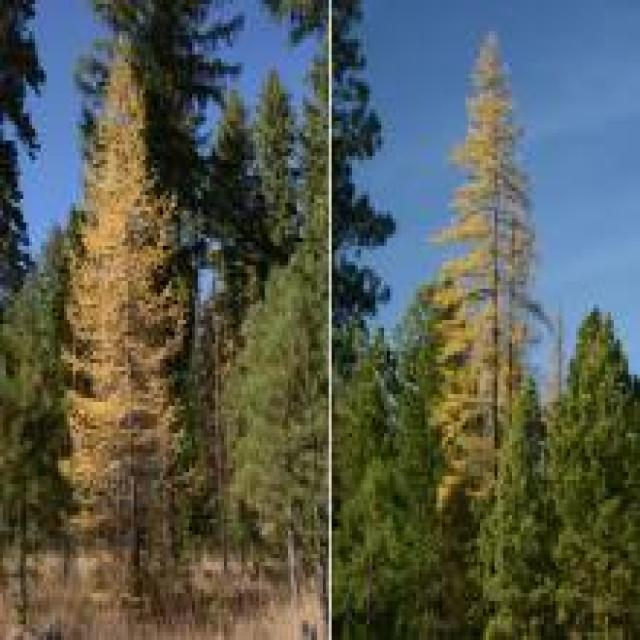Larix occidentalis: (51, 24, 190, 580), (426, 26, 564, 556)
